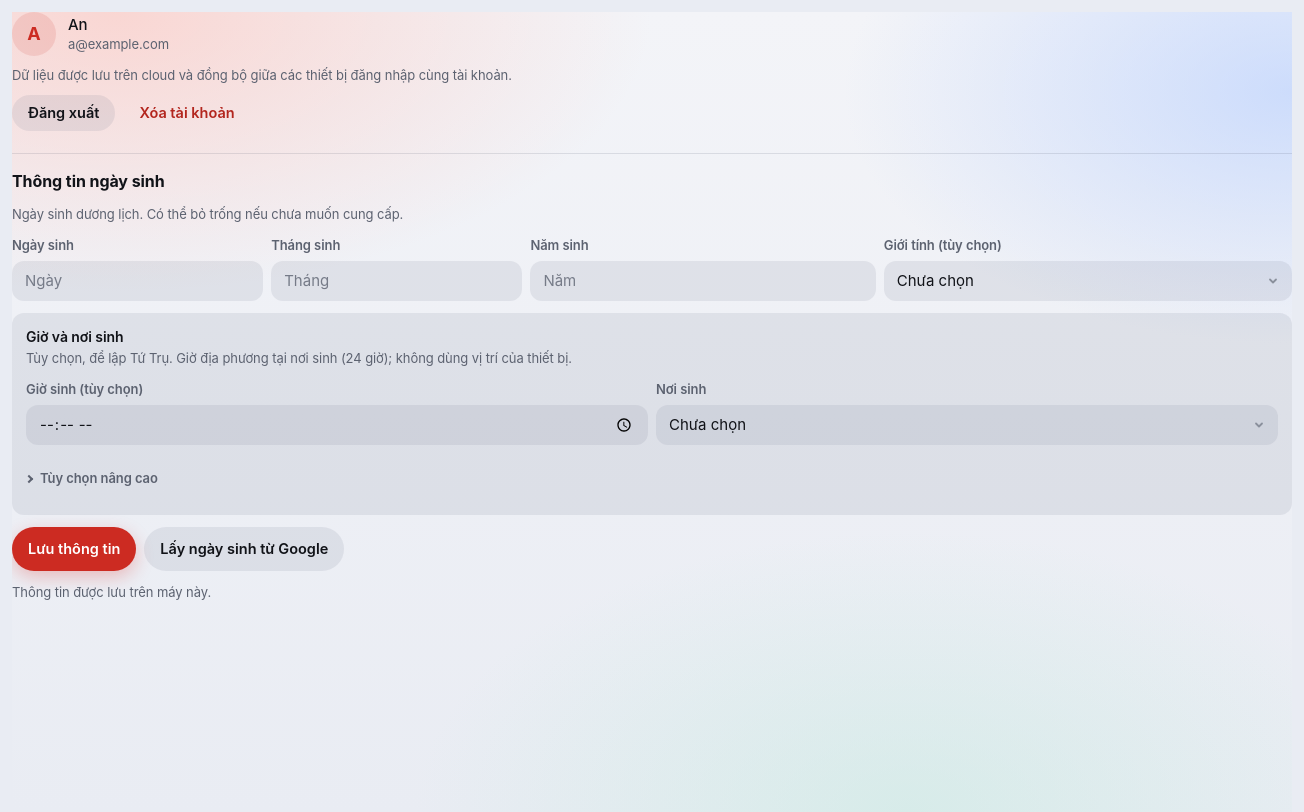
Thông tin ngày sinh trong Tài khoản › lấy từ Google để điền form, chỉ lưu khi người dùng bấm lưu
Expected: the number field labelled "Ngày sinh" is shown, [12,261,263,301]
Click the button "Lấy ngày sinh từ Google": (244, 549) [144,527,344,571]
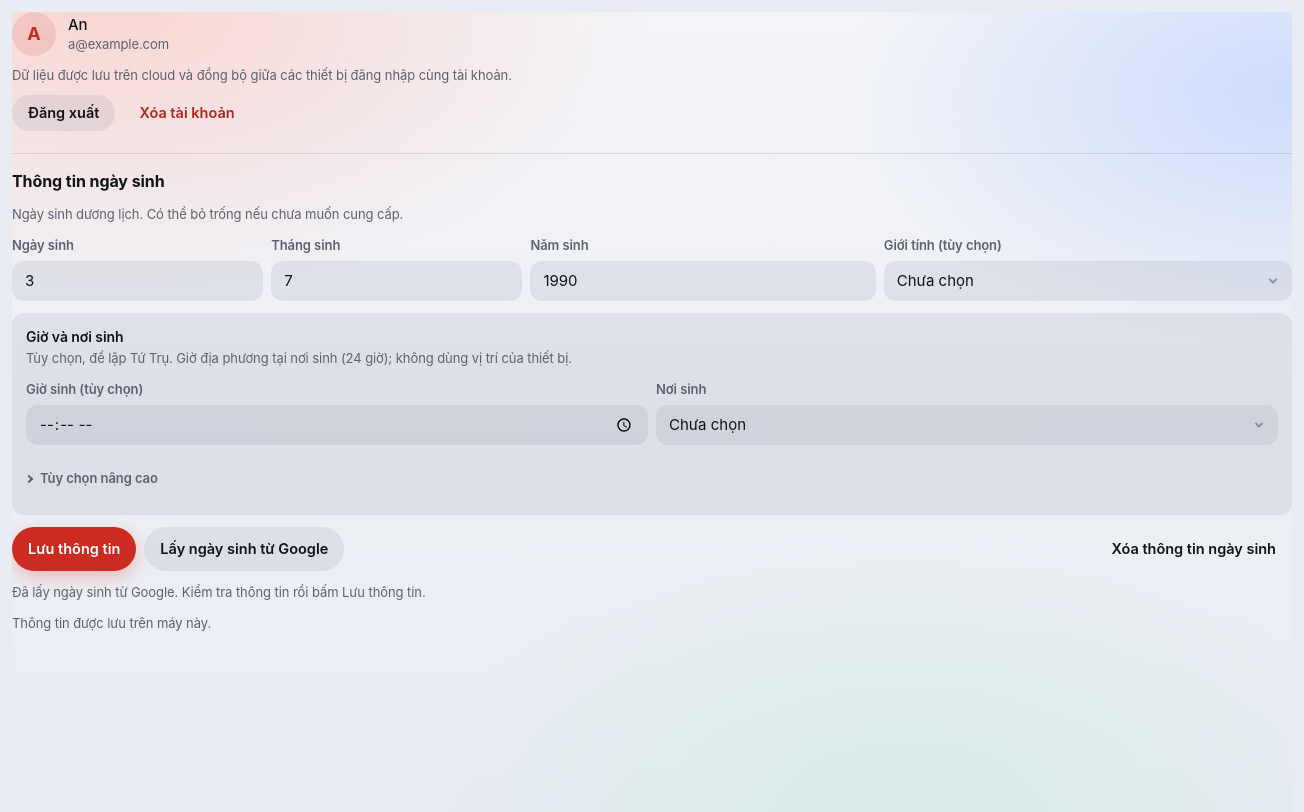
Now the number field labelled "Năm sinh" holds "1990", box [530,261,876,301]
Click the button "Lưu thông tin": (74, 549) [12,527,136,571]
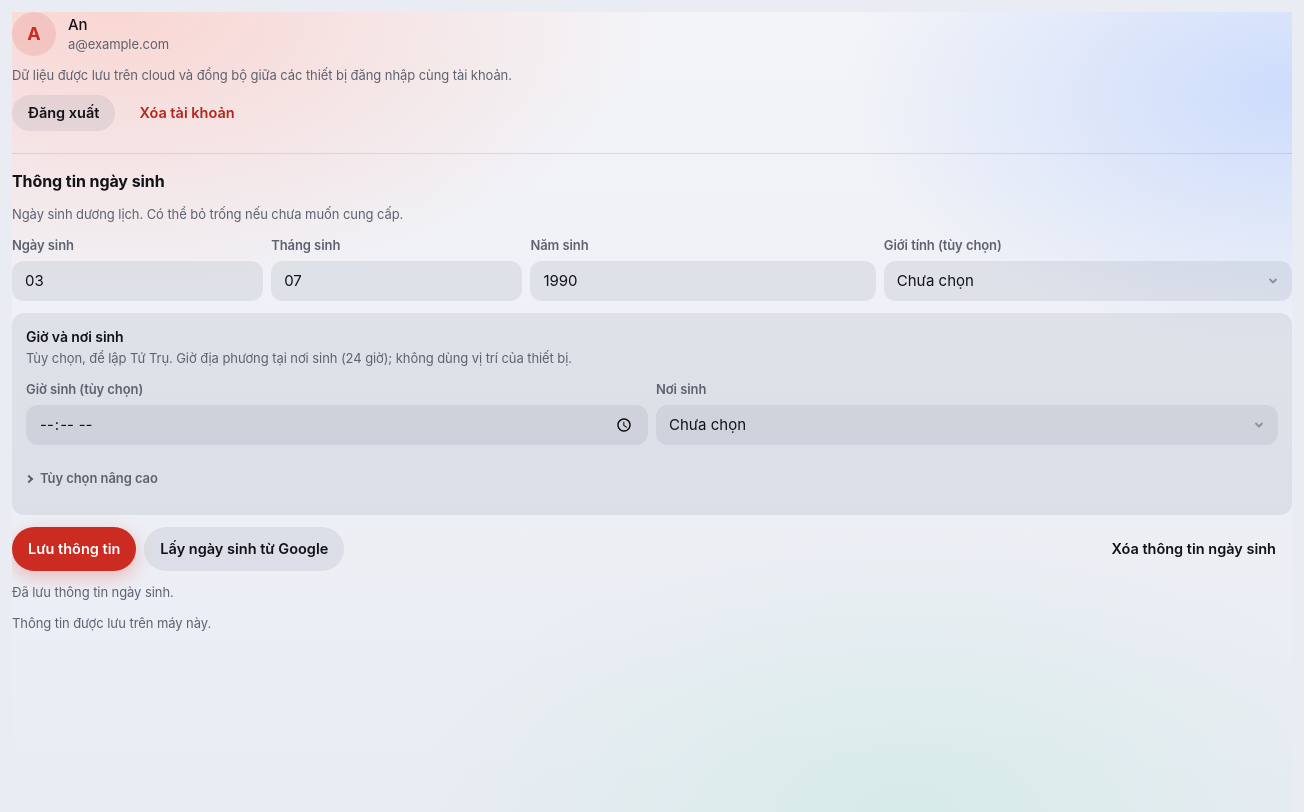
Now the text "Đã lưu thông tin ngày sinh." is shown, box [12,584,174,600]
